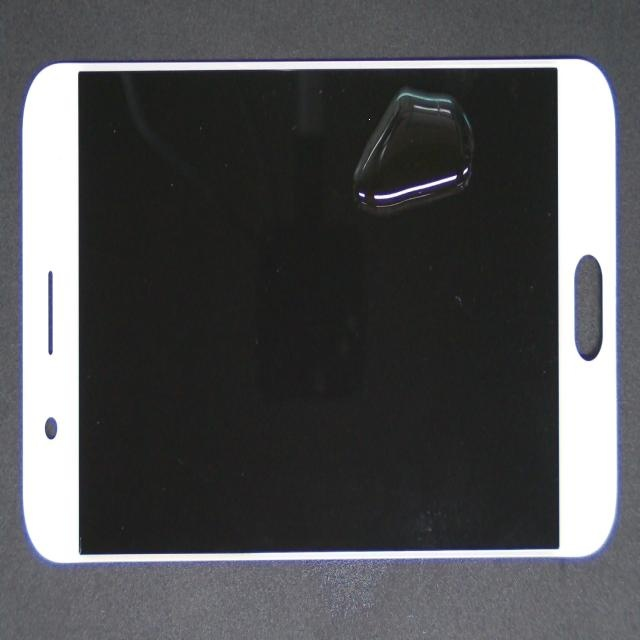oil: (175, 79, 534, 284)
